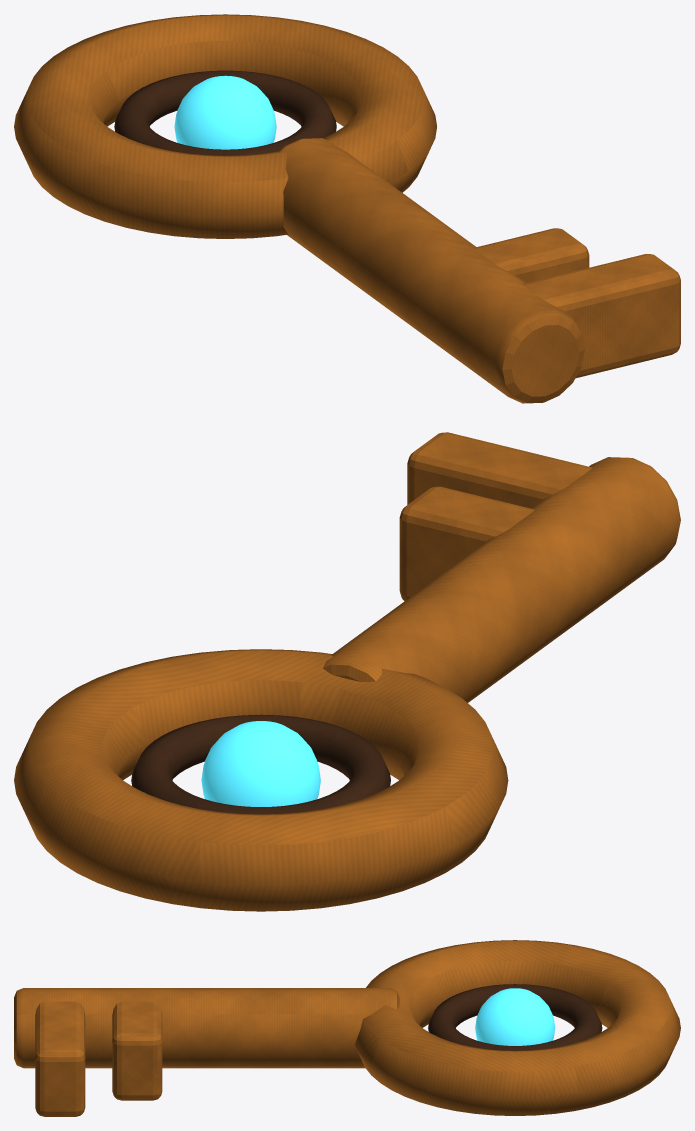
The model's file is relic_02.glb.
The picture shows the model from 3 angles, top to bottom: view 1: azimuth 30°, elevation 25°; view 2: azimuth 150°, elevation 25°; view 3: azimuth 270°, elevation 25°; orthographic projection. The views are drawn at different scales.
Parts seen in each view (by area): view 1: Brushed_gold, Patinated_bronze, Luminous_aquamarine; view 2: Brushed_gold, Patinated_bronze, Luminous_aquamarine; view 3: Brushed_gold, Patinated_bronze, Luminous_aquamarine.
Part boxes in pixels (x1=…): Brushed_gold: x1=14, y1=14, x2=680, y2=403; Patinated_bronze: x1=114, y1=70, x2=336, y2=155; Luminous_aquamarine: x1=174, y1=75, x2=276, y2=149; Brushed_gold: x1=14, y1=432, x2=680, y2=911; Patinated_bronze: x1=131, y1=714, x2=390, y2=814; Luminous_aquamarine: x1=201, y1=721, x2=320, y2=806; Brushed_gold: x1=14, y1=940, x2=680, y2=1116; Patinated_bronze: x1=428, y1=984, x2=602, y2=1050; Luminous_aquamarine: x1=475, y1=988, x2=555, y2=1045.
Bounding box in the file's own units: 0.43 × 0.104 × 0.865.
Materials: 3 (2 with a texture image).
